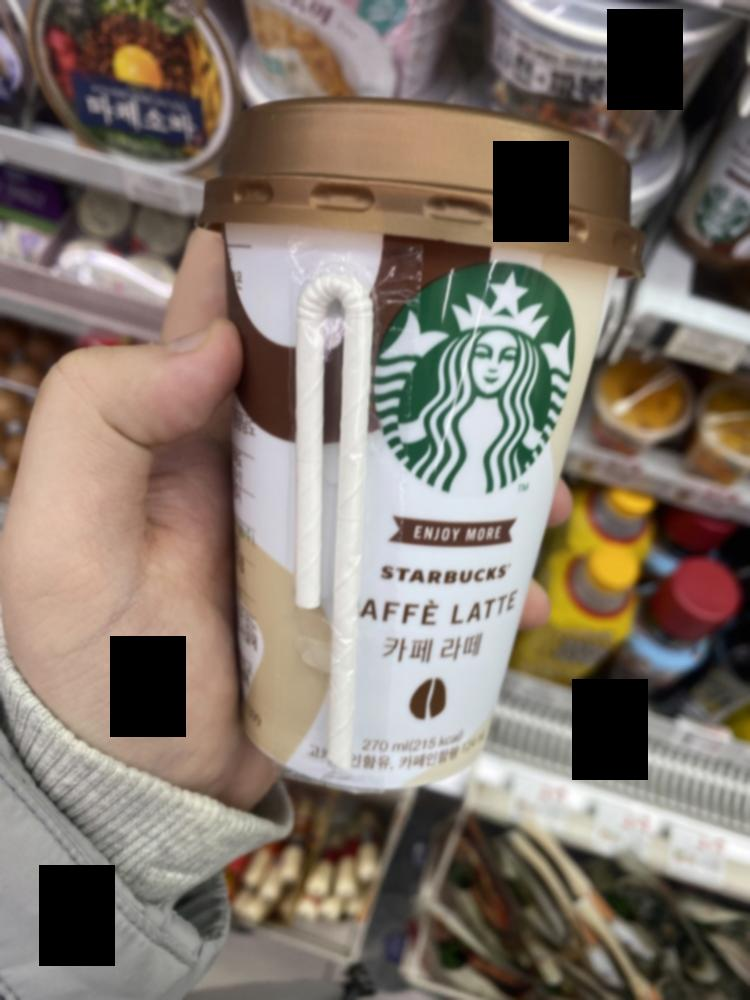starbucks_cafelatte: (218, 88, 640, 780)
